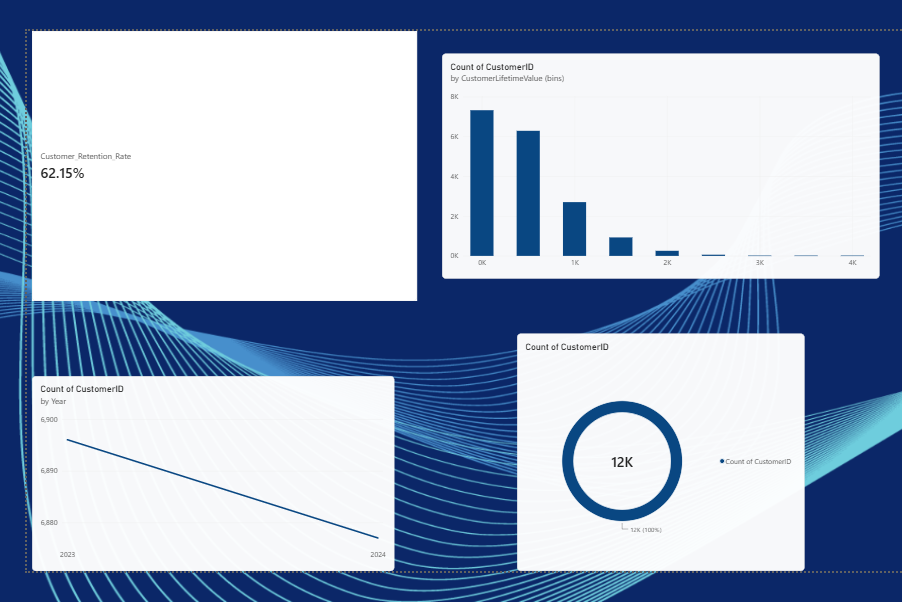

The dashboard page shown, as its layout file describes it:
{"tool":"powerbi","page":{"name":"Customer Analytics","canvas":[1920,1080],"ordinal":1},"visuals":[{"type":"cardVisual","fields":{"Data":["cities.Customer_Retention_Rate"]},"box":[10,0,770,540],"z":0},{"type":"donutChart","fields":{"Y":["Count(customers.CustomerID)"]},"box":[980,605,575,475],"z":1000},{"type":"lineChart","fields":{"Category":["orders.OrderDate.Variation.Date Hierarchy.Year"],"Y":["Count(orders.CustomerID)"]},"box":[10,690,725,390],"z":2000},{"type":"clusteredColumnChart","fields":{"Category":["orders_features.CustomerLifetimeValue (bins)"],"Y":["Count(orders_features.CustomerID)"]},"box":[830,45,875,450],"z":3000}]}

Visuals, with their boxes on the page's 1920x1080 design canvas (x1, y1, x2, y2). These are canvas units, not pixel positions in the 902x602 screenshot, which may show the page scaled, cropped or inside an application window:
cardVisual - cities.Customer_Retention_Rate: rect(10, 0, 780, 540)
donutChart - Count(customers.CustomerID): rect(980, 605, 1555, 1080)
lineChart - orders.OrderDate.Variation.Date Hierarchy.Year x Count(orders.CustomerID): rect(10, 690, 735, 1080)
clusteredColumnChart - orders_features.CustomerLifetimeValue (bins) x Count(orders_features.CustomerID): rect(830, 45, 1705, 495)
